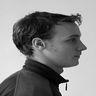ear: (29, 31, 52, 55)
